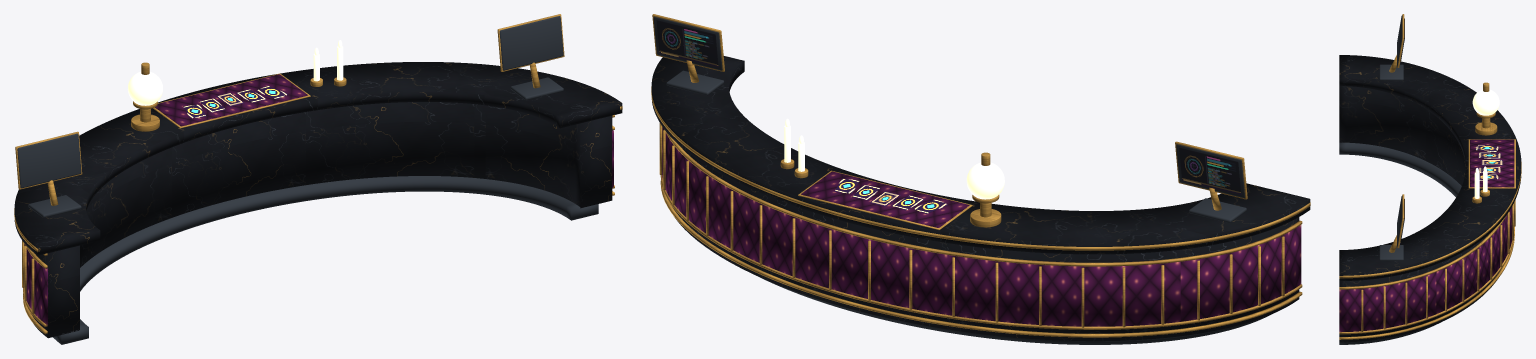
Rendered from prop_hr_reception_desk.glb.
The picture shows the model from 3 angles, left to right: view 1: azimuth 30°, elevation 25°; view 2: azimuth 150°, elevation 25°; view 3: azimuth 270°, elevation 25°; orthographic projection. The views are drawn at different scales.
Visible parts, largest first — view 1: Continuous_Marble_U_Shell; view 2: Continuous_Marble_U_Shell; view 3: Continuous_Marble_U_Shell.
Part boxes in pixels (box(x1,y1,x2,y2)): Continuous_Marble_U_Shell: box(14, 14, 622, 344); Continuous_Marble_U_Shell: box(651, 14, 1310, 344); Continuous_Marble_U_Shell: box(1339, 14, 1521, 344).
Size of the model in its own units: 5.14 by 1.41 by 1.81.
7 materials, 5 textured.
